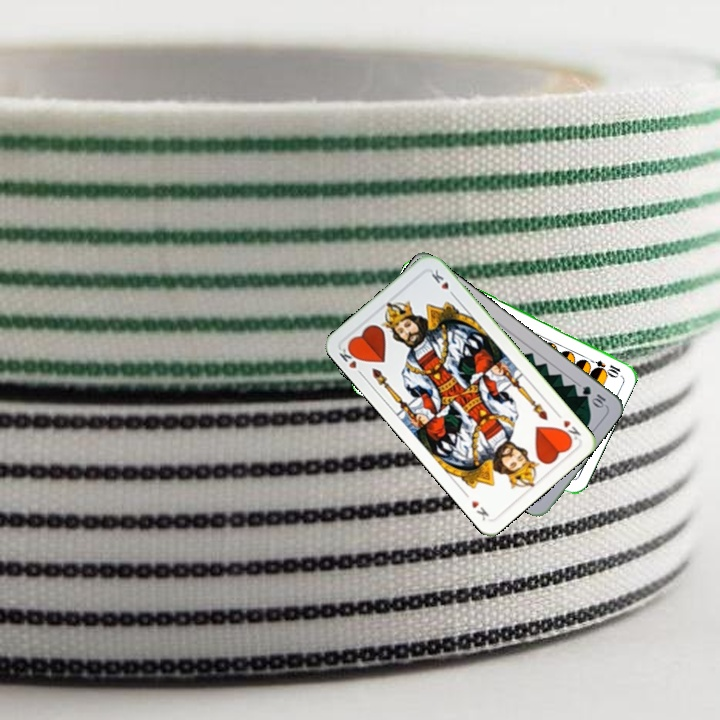E10: (584, 354, 623, 378)
G10: (578, 382, 608, 411)
HK: (335, 341, 366, 379), (551, 408, 583, 442)
